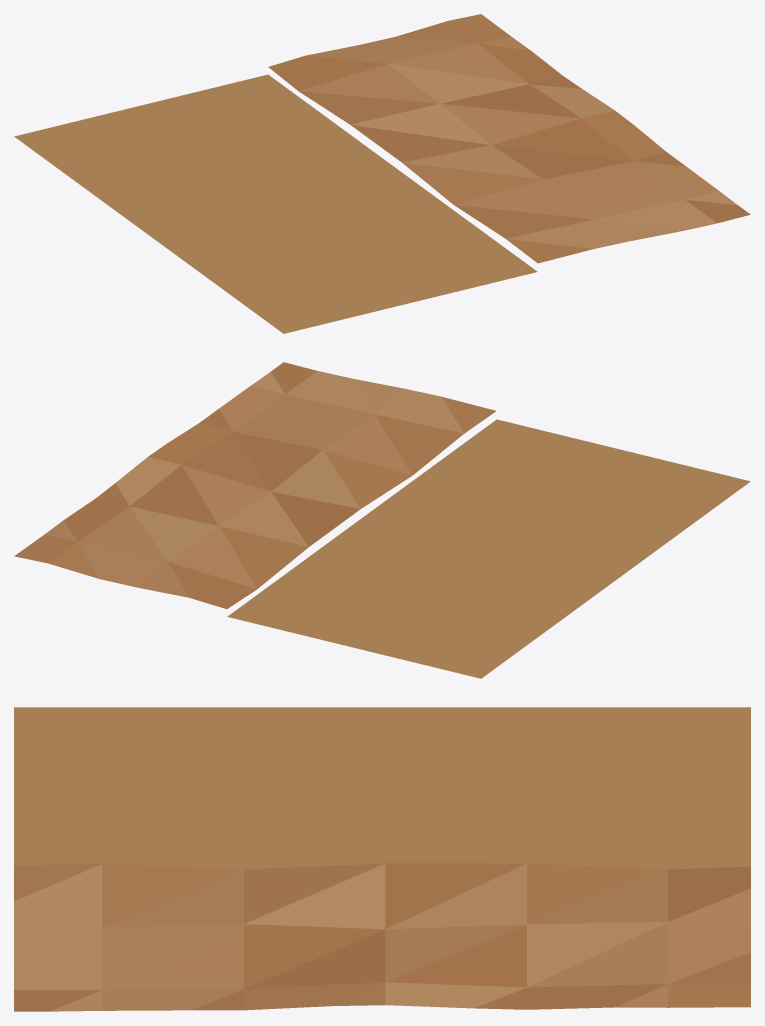
3 views of the same model, one above another, from view 1: azimuth 30°, elevation 25°; view 2: azimuth 150°, elevation 25°; view 3: azimuth 270°, elevation 25° (orthographic). The views are drawn at different scales.
Visible parts, largest first — view 1: baked; view 2: baked; view 3: baked.
Part boxes in pixels (<box>): baked: <box>14,14,750,333</box>; baked: <box>14,362,750,678</box>; baked: <box>14,707,750,1011</box>.
Bounding box in the file's own units: 62.5 × 1.38 × 62.5.
